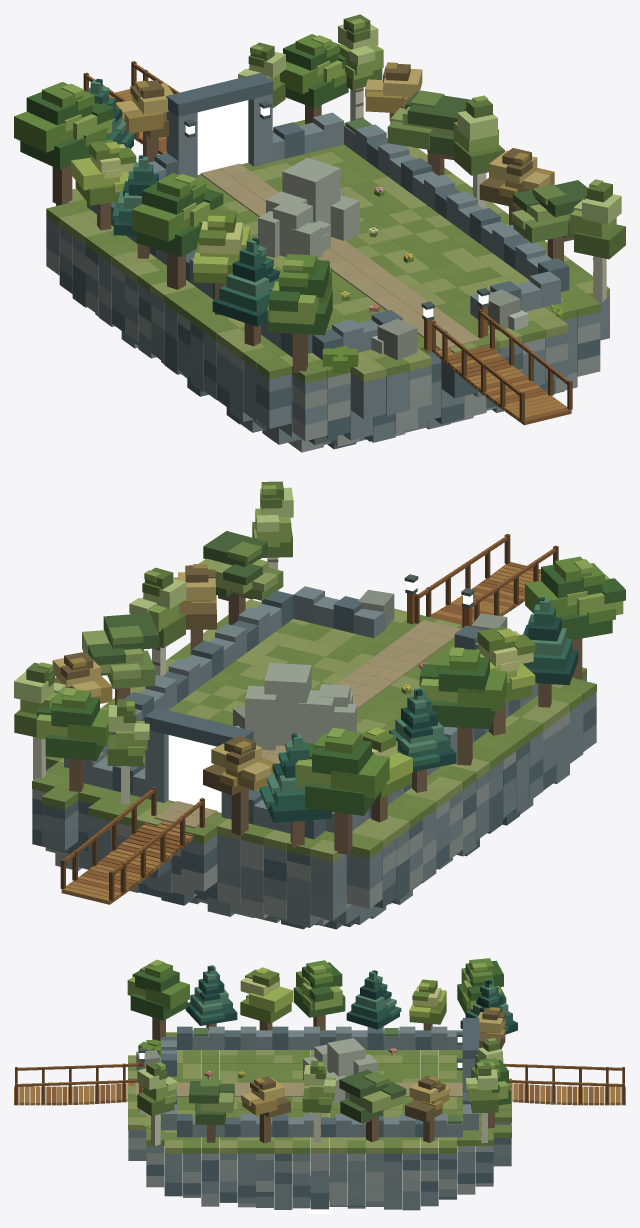
File: room_rock_purified.glb
3 views of the same model, one above another, from view 1: azimuth 30°, elevation 25°; view 2: azimuth 150°, elevation 25°; view 3: azimuth 270°, elevation 25° (orthographic). The views are drawn at different scales.
Parts seen in each view (by area): view 1: room_rock_blocks, tree0_(0, 0).003, tree0_(0, 0).002, tree0_(0, 0).001, rock_outcrop_(0, 0).001, tree0_(0, 0).004, tree3_(0, 0).002, tree2_(0, 0).001, tree1_(0, 0).001, tree3_(0, 0).001, tree4_(0, 0).002, tree1_(0, 0).002 (+12 smaller); view 2: room_rock_blocks, tree0_(0, 0).003, tree0_(0, 0).002, tree0_(0, 0).001, rock_outcrop_(0, 0).001, tree0_(0, 0).004, tree3_(0, 0).002, tree3_(0, 0).001, tree5_(0, 0).003, tree2_(0, 0).002, tree2_(0, 0).001, tree2_(0, 0).003 (+10 smaller); view 3: room_rock_blocks, tree0_(0, 0).001, tree3_(0, 0).002, tree0_(0, 0).002, tree4_(0, 0).001, tree1_(0, 0).001, tree3_(0, 0).001, tree2_(0, 0).001, tree2_(0, 0).002, tree5_(0, 0).001, tree5_(0, 0).002, rock_outcrop_(0, 0).001 (+8 smaller).
Part boxes in pixels (x1,y1,x2,y2): room_rock_blocks: (46,61,609,452); tree0_(0, 0).003: (14,82,114,205); tree0_(0, 0).002: (132,173,223,289); tree0_(0, 0).001: (267,254,332,373); rock_outcrop_(0, 0).001: (266,157,359,247); tree0_(0, 0).004: (280,34,348,124); tree3_(0, 0).002: (387,90,471,175); tree2_(0, 0).001: (212,237,280,346); tree1_(0, 0).001: (570,179,625,302); tree3_(0, 0).001: (511,180,587,262); tree4_(0, 0).002: (71,139,136,230); tree1_(0, 0).002: (453,95,504,208); room_rock_blocks: (32,534,596,929); tree0_(0, 0).003: (295,727,389,854); tree0_(0, 0).002: (419,647,506,765); tree0_(0, 0).001: (525,556,625,678); rock_outcrop_(0, 0).001: (245,663,333,750); tree0_(0, 0).004: (36,687,112,791); tree3_(0, 0).002: (82,613,159,705); tree3_(0, 0).001: (198,531,283,624); tree5_(0, 0).003: (203,735,277,835); tree2_(0, 0).002: (389,687,456,792); tree2_(0, 0).001: (522,597,578,707); tree2_(0, 0).003: (259,733,332,847); room_rock_blocks: (14,1018,625,1213); tree0_(0, 0).001: (127,959,189,1040); tree3_(0, 0).002: (339,1069,406,1142); tree0_(0, 0).002: (293,960,345,1030); tree4_(0, 0).001: (240,967,292,1030); tree1_(0, 0).001: (137,1061,177,1145); tree3_(0, 0).001: (189,1079,234,1142); tree2_(0, 0).001: (185,965,237,1030); tree2_(0, 0).002: (346,970,401,1029); tree5_(0, 0).001: (241,1076,291,1143); tree5_(0, 0).002: (405,1076,450,1142); rock_outcrop_(0, 0).001: (325,1038,377,1103).
Bounding box in the file's own units: 19.12 × 13.63 × 38.5.
